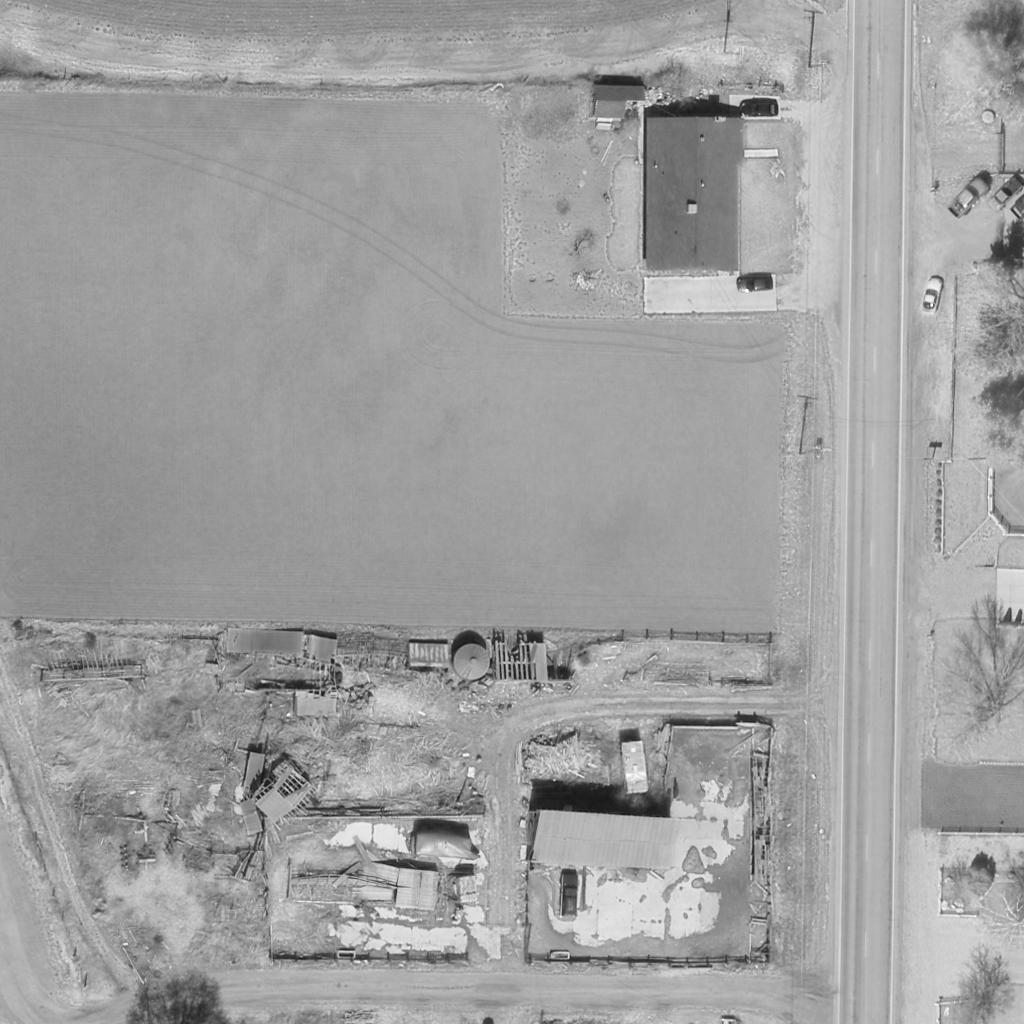vehicle: (945, 174, 993, 222), (617, 739, 653, 797), (989, 174, 1024, 214), (920, 274, 942, 314), (560, 876, 578, 920), (735, 274, 777, 292), (738, 99, 780, 117)
